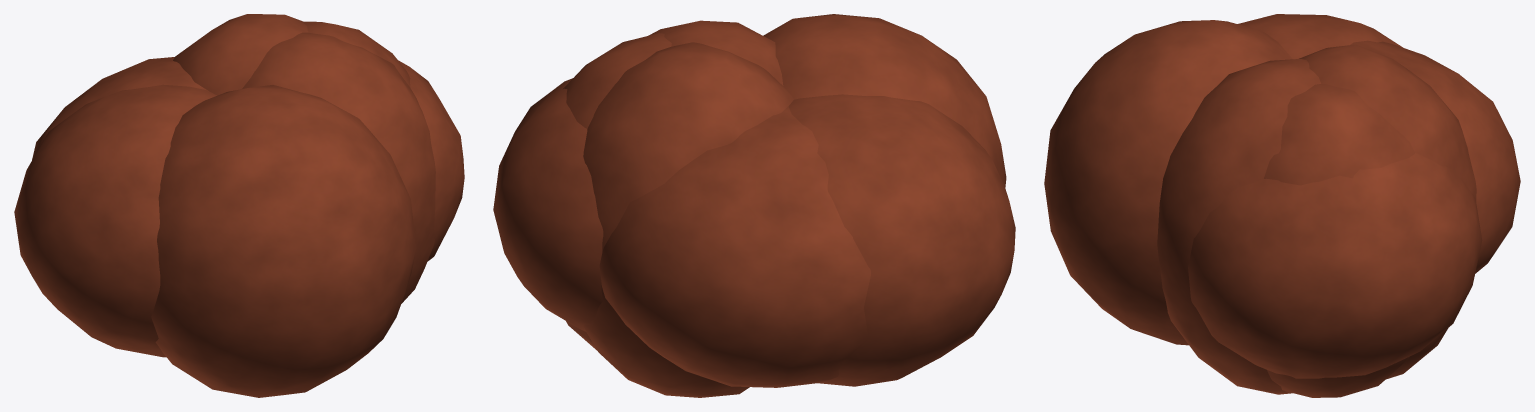
The model's file is pv_hromada_ruda.glb.
3 views of the same model, side by side, from view 1: azimuth 30°, elevation 25°; view 2: azimuth 150°, elevation 25°; view 3: azimuth 270°, elevation 25° (orthographic). The views are drawn at different scales.
Visible parts, largest first — view 1: dum; view 2: dum; view 3: dum.
Boxes of the visible parts, x1,y1,x2,y2 form: dum: (14,14,464,397); dum: (493,14,1015,397); dum: (1044,14,1520,397).
Bounding box in the file's own units: 11.06 × 7.69 × 10.24.
1 material, 1 textured.
